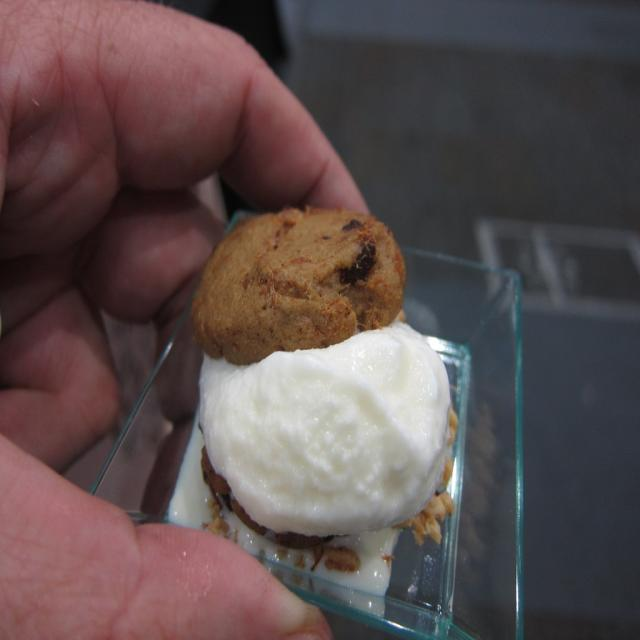Ice cream: (204, 328, 456, 546)
